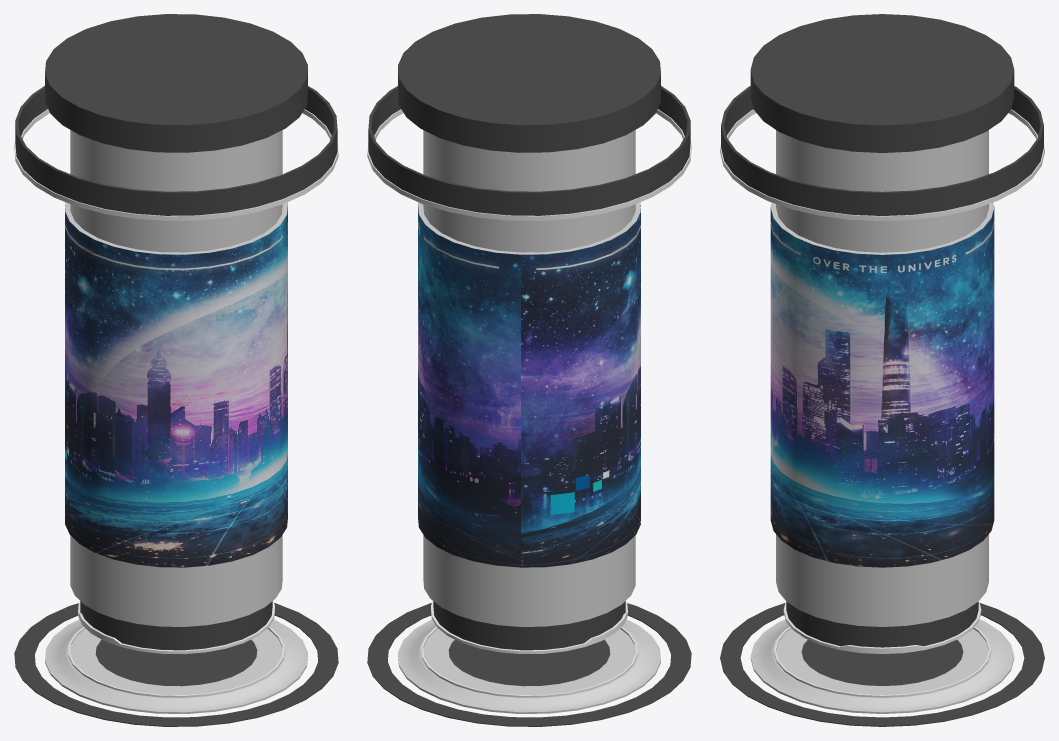
File: MOb_Board_2x1_002.fbx
The picture shows the model from 3 angles, left to right: view 1: azimuth 30°, elevation 25°; view 2: azimuth 150°, elevation 25°; view 3: azimuth 270°, elevation 25°; orthographic projection.
Parts seen in each view (by area): view 1: MOb_Board_2x1_002, MOb_Board_2x1_002_screen; view 2: MOb_Board_2x1_002, MOb_Board_2x1_002_screen; view 3: MOb_Board_2x1_002, MOb_Board_2x1_002_screen.
Part boxes in pixels (left/top/right/bottom): MOb_Board_2x1_002: left=14, top=14, right=338, bottom=726; MOb_Board_2x1_002_screen: left=65, top=202, right=287, bottom=567; MOb_Board_2x1_002: left=367, top=14, right=691, bottom=726; MOb_Board_2x1_002_screen: left=418, top=202, right=640, bottom=567; MOb_Board_2x1_002: left=720, top=14, right=1044, bottom=726; MOb_Board_2x1_002_screen: left=770, top=203, right=994, bottom=567.
Size of the model in its own units: 3.2 by 6.4 by 3.2.
